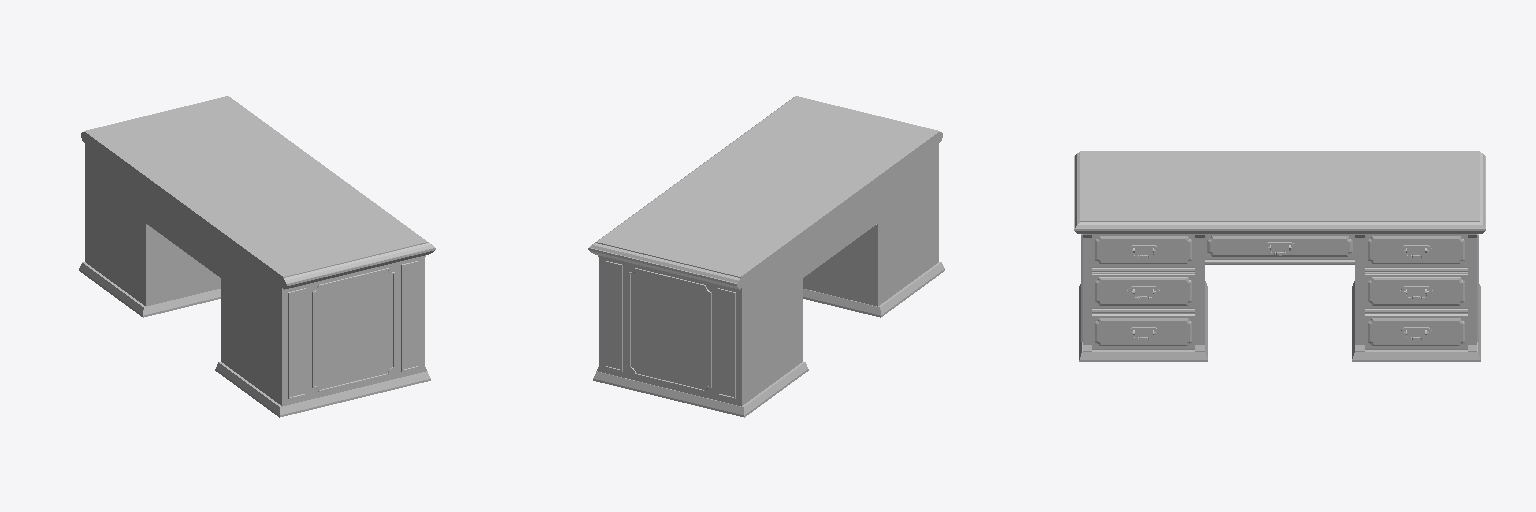
The picture shows the model from 3 angles: view 1: azimuth 30°, elevation 25°; view 2: azimuth 150°, elevation 25°; view 3: azimuth 270°, elevation 25°; orthographic projection.
Visible parts, largest first — view 1: plane_lp.001_Material.004_0; view 2: plane_lp.001_Material.004_0; view 3: plane_lp.001_Material.004_0, handle2_lp.001_Material.004_0, handle2_lp.003_Material.004_0, handle2_lp.002_Material.004_0, handle2_lp.004_Material.004_0, handle1_lp.001_Material.004_0, handle1_lp.003_Material.004_0.
Boxes of the visible parts, <box> form: plane_lp.001_Material.004_0: <box>79,96,435,417</box>; plane_lp.001_Material.004_0: <box>588,96,944,417</box>; plane_lp.001_Material.004_0: <box>1074,151,1485,361</box>; handle2_lp.001_Material.004_0: <box>1092,272,1194,308</box>; handle2_lp.003_Material.004_0: <box>1365,272,1467,308</box>; handle2_lp.002_Material.004_0: <box>1092,314,1194,349</box>; handle2_lp.004_Material.004_0: <box>1365,314,1467,349</box>; handle1_lp.001_Material.004_0: <box>1092,234,1194,267</box>; handle1_lp.003_Material.004_0: <box>1365,234,1467,267</box>.
Bounding box in the file's own units: 0.92 × 0.7966 × 2.14.